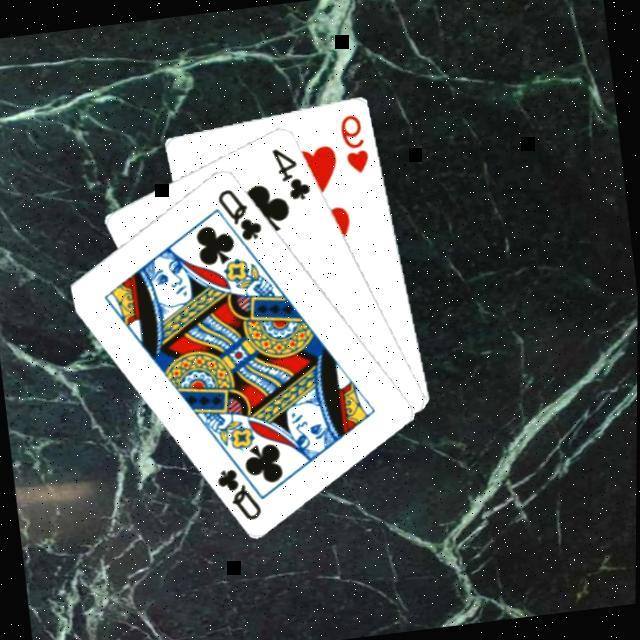4C: (266, 138, 314, 202)
9H: (334, 107, 372, 175)
QC: (212, 180, 265, 244), (212, 460, 265, 524)
